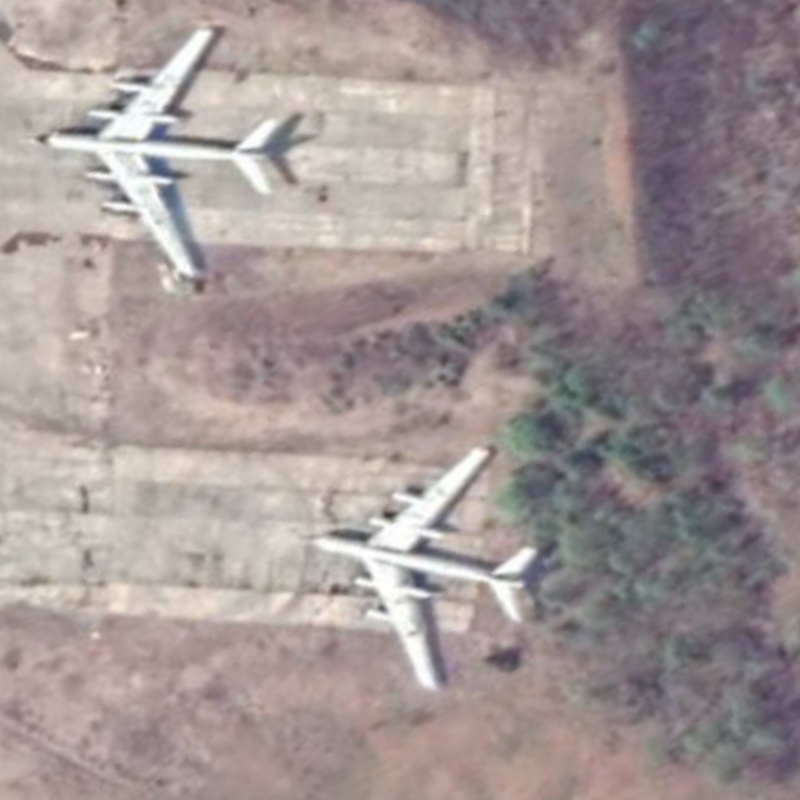A17: (29, 21, 281, 282), (303, 442, 546, 693)
